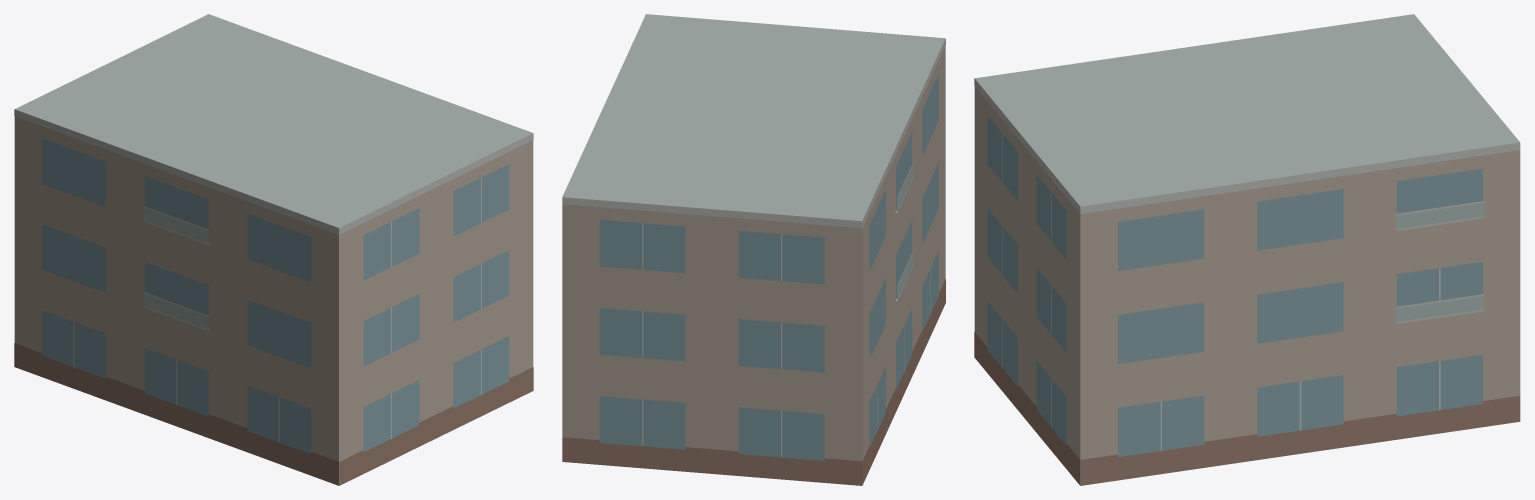
The model's file is survey-upis-32708093.glb.
The picture shows the model from 3 angles, left to right: view 1: azimuth 30°, elevation 25°; view 2: azimuth 150°, elevation 25°; view 3: azimuth 270°, elevation 25°; orthographic projection. The views are drawn at different scales.
Visible parts, largest first — view 1: survey-upis-32708093.tmp; view 2: survey-upis-32708093.tmp; view 3: survey-upis-32708093.tmp.
Part boxes in pixels (bbox=[...]): survey-upis-32708093.tmp: bbox=[14, 14, 533, 485]; survey-upis-32708093.tmp: bbox=[562, 14, 945, 485]; survey-upis-32708093.tmp: bbox=[974, 14, 1520, 485].
Size of the model in its own units: 13.56 by 9.15 by 16.23.
